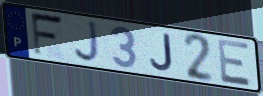2: (182, 31, 216, 84)
3: (109, 24, 138, 70)
E: (216, 37, 254, 88)
F: (29, 11, 67, 59)
J: (73, 20, 103, 65), (148, 33, 175, 74)
